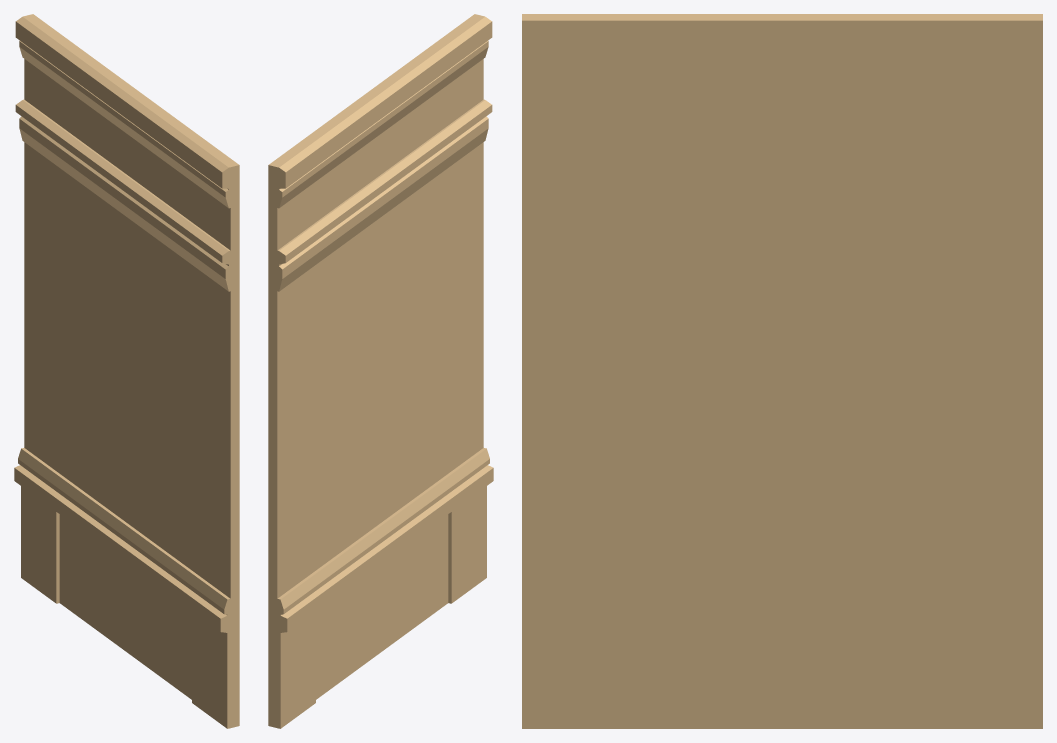
File: Wall_blank.fbx
3 views of the same model, side by side, from view 1: azimuth 30°, elevation 25°; view 2: azimuth 150°, elevation 25°; view 3: azimuth 270°, elevation 25° (orthographic). The views are drawn at different scales.
Parts seen in each view (by area): view 1: Wall_blank; view 2: Wall_blank; view 3: Wall_blank.
Boxes of the visible parts, left/top/right/bottom form: Wall_blank: left=14, top=14, right=239, bottom=728; Wall_blank: left=268, top=14, right=493, bottom=728; Wall_blank: left=522, top=14, right=1042, bottom=728.
Bounding box in the file's own units: 10.53 × 200 × 300.
